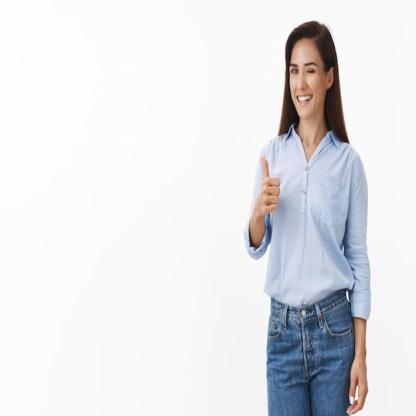thumb_up: (252, 150, 284, 216)
